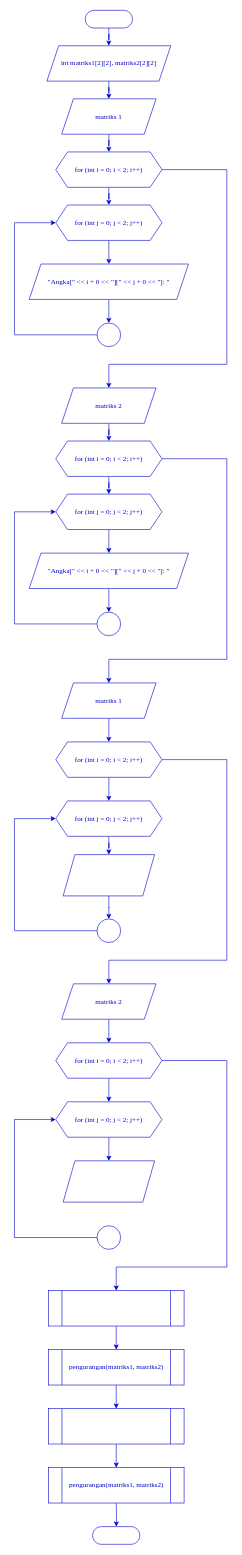
Some shapes in this 242 by 1555 pixel diagram are drawn without their labels. The box of each missing label's shape, as (x1, y1, x2, y2) in pixels:
" " matriks1[i][j]: (63, 854, 155, 896)
" " matriks2[i][j]: (63, 1160, 155, 1202)
END: (92, 1526, 140, 1544)
penjumlahan(matriks1, matriks2): (48, 1290, 184, 1326)
perkalian(matriks1, matriks2): (48, 1408, 184, 1444)
START: (85, 10, 132, 28)
